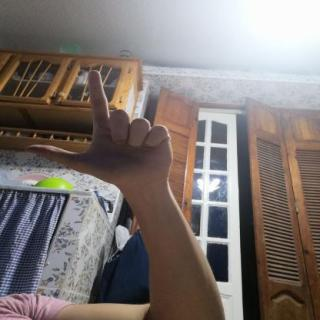LAAM: (13, 61, 186, 198)
